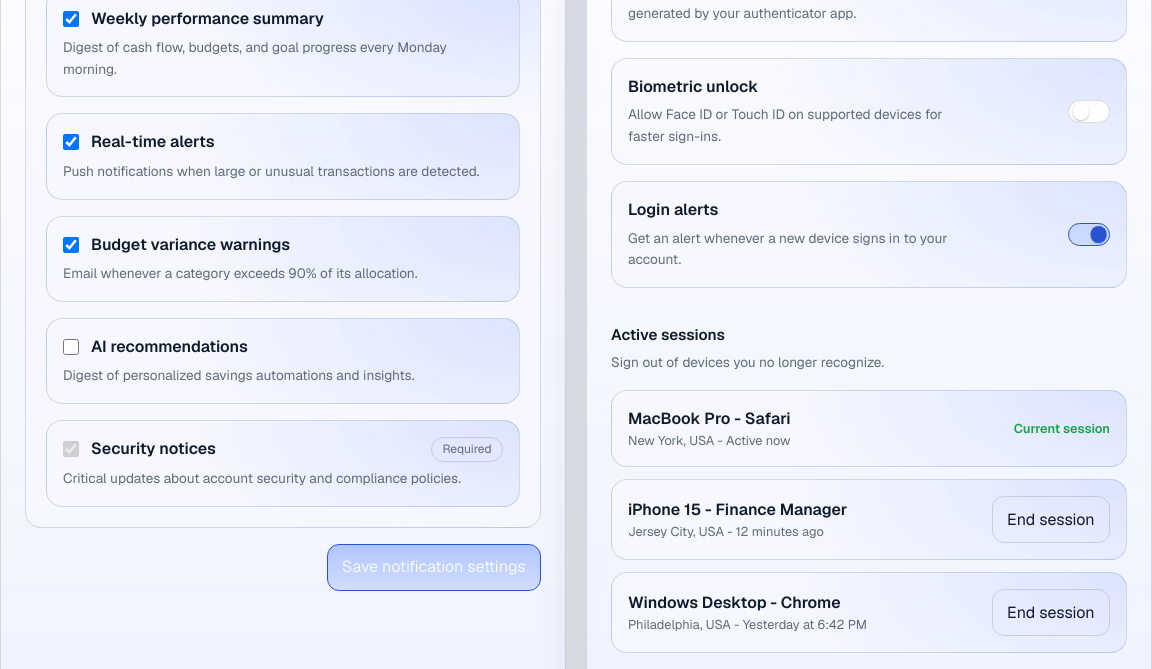
Scenario: SettingsSection › stores notification changes and confirms saves
(page scrolled)
Click the checkbox labelled "AI recommendations": (71, 347) [63,339,79,355]
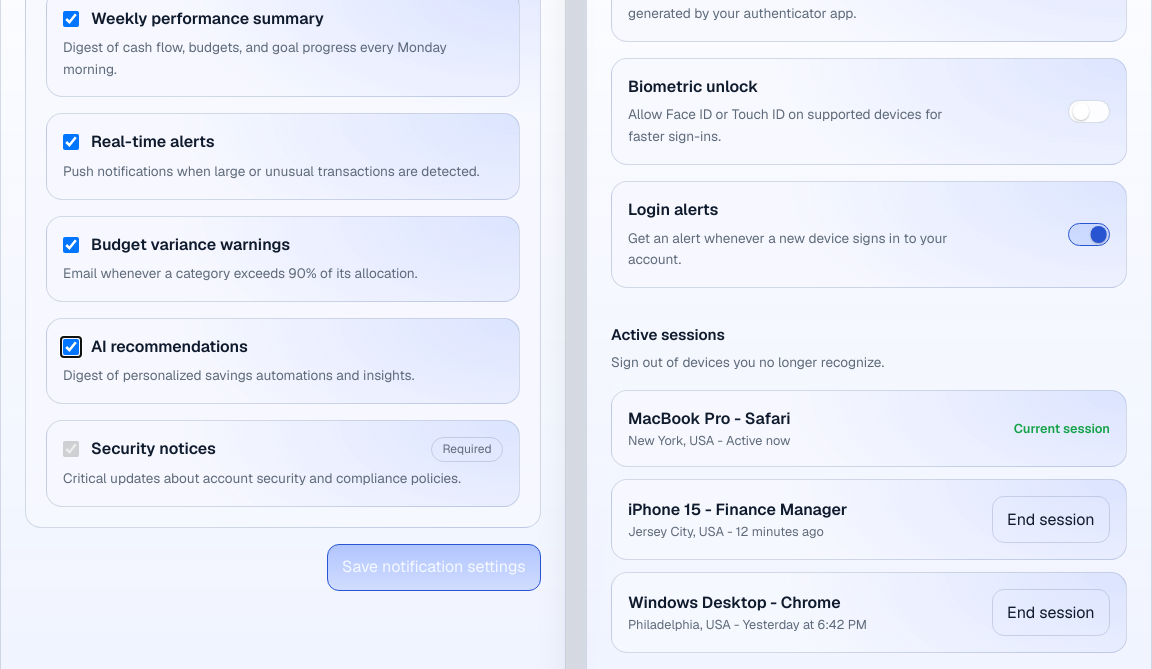
Now the checkbox labelled "AI recommendations" is checked, box [63,339,79,355]
Click the button "Save notification settings": (434, 567) [327,544,541,591]
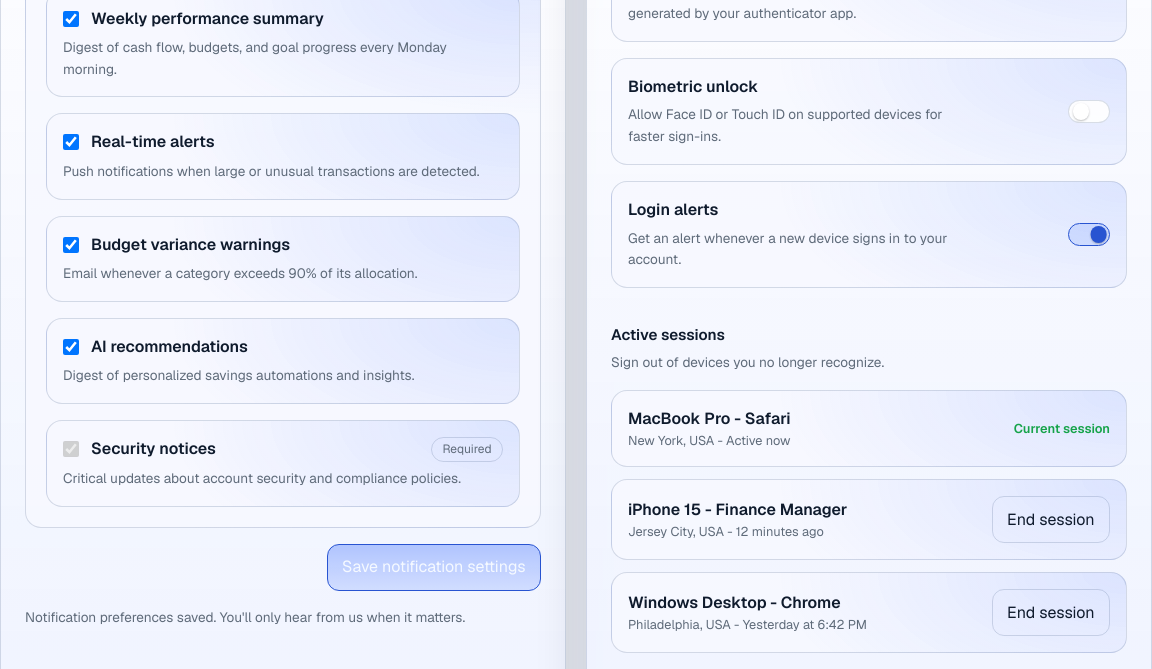
Now the text "Notification preferences saved. You'll only hear from us when it matters." is shown, box [25,606,541,628]
